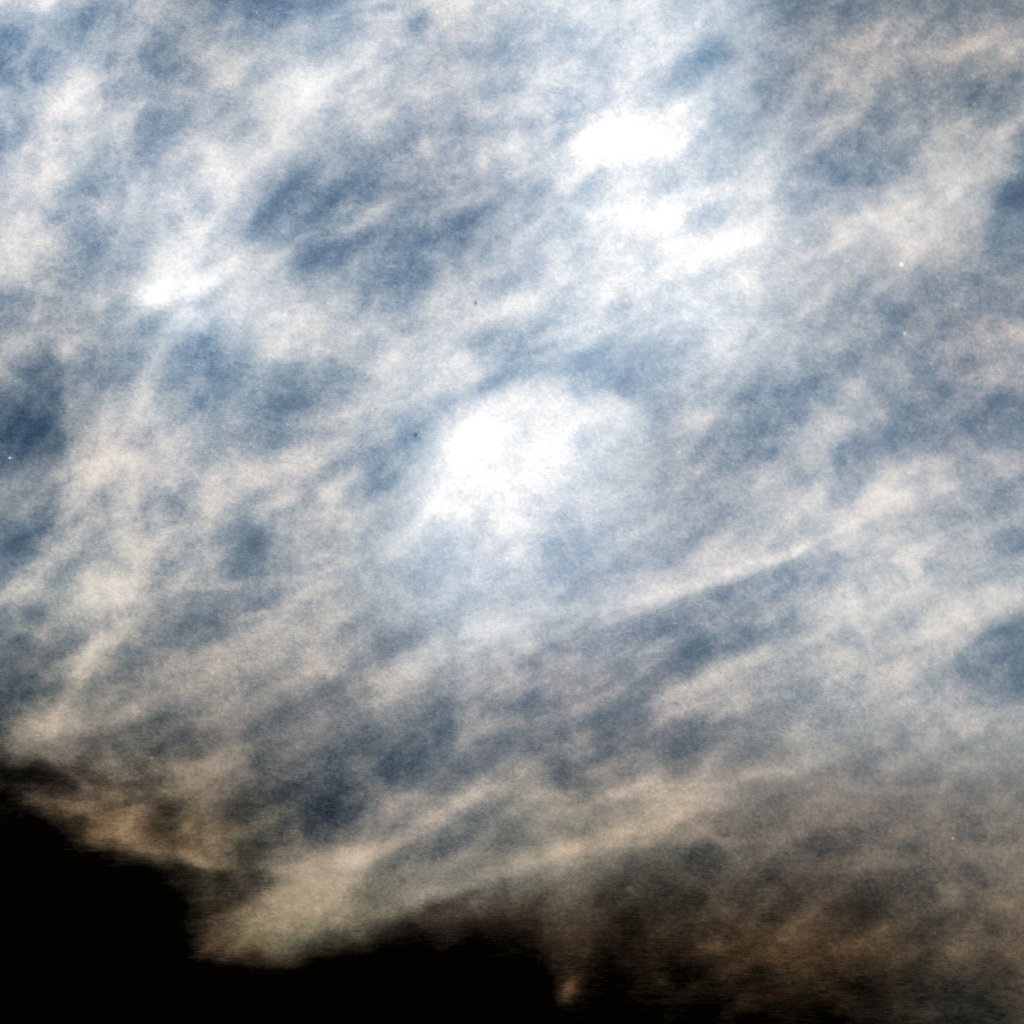tumor: (384, 375, 640, 649)
